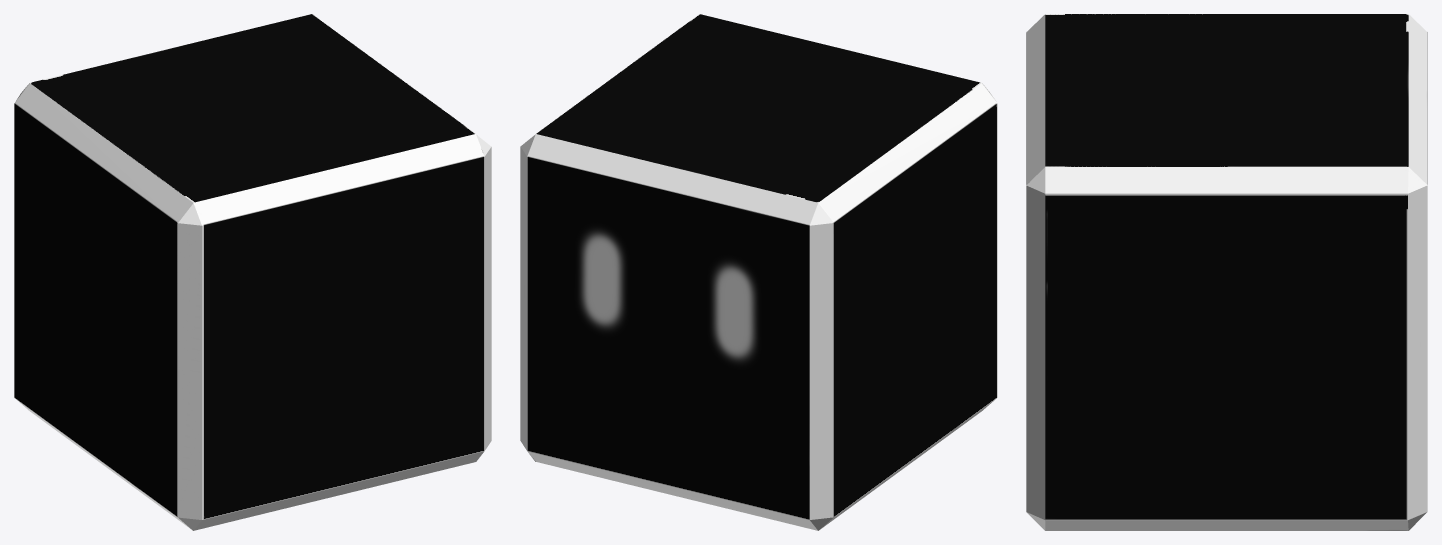
Rendered from Player.obj.
The picture shows the model from 3 angles, left to right: view 1: azimuth 30°, elevation 25°; view 2: azimuth 150°, elevation 25°; view 3: azimuth 270°, elevation 25°; orthographic projection. The views are drawn at different scales.
Visible parts, largest first — view 1: Cube; view 2: Cube; view 3: Cube.
Boxes of the visible parts, left/top/right/bottom form: Cube: left=14, top=14, right=491, bottom=530; Cube: left=520, top=14, right=997, bottom=530; Cube: left=1026, top=14, right=1427, bottom=530.
Bounding box in the file's own units: 2 × 2 × 2.
1 material, 1 textured.
